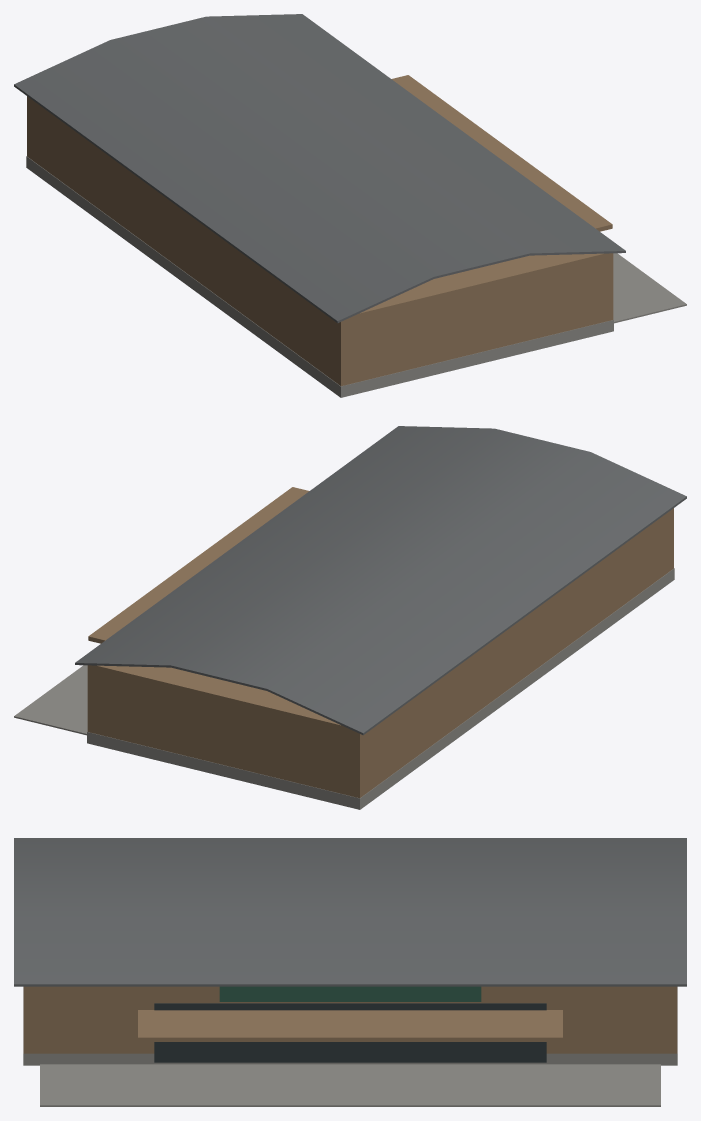
Rendered from SM_Prop_services_hall_1_LOD2.glb.
The picture shows the model from 3 angles, top to bottom: view 1: azimuth 30°, elevation 25°; view 2: azimuth 150°, elevation 25°; view 3: azimuth 270°, elevation 25°; orthographic projection. The views are drawn at different scales.
Parts seen in each view (by area): view 1: SM_Prop_services_hall_1_LOD2; view 2: SM_Prop_services_hall_1_LOD2; view 3: SM_Prop_services_hall_1_LOD2.
Boxes of the visible parts, x1=… form: SM_Prop_services_hall_1_LOD2: x1=14, y1=14, x2=686, y2=397; SM_Prop_services_hall_1_LOD2: x1=14, y1=426, x2=686, y2=809; SM_Prop_services_hall_1_LOD2: x1=14, y1=838, x2=686, y2=1106.
Size of the model in its own units: 26.6 by 7.22 by 41.2.
